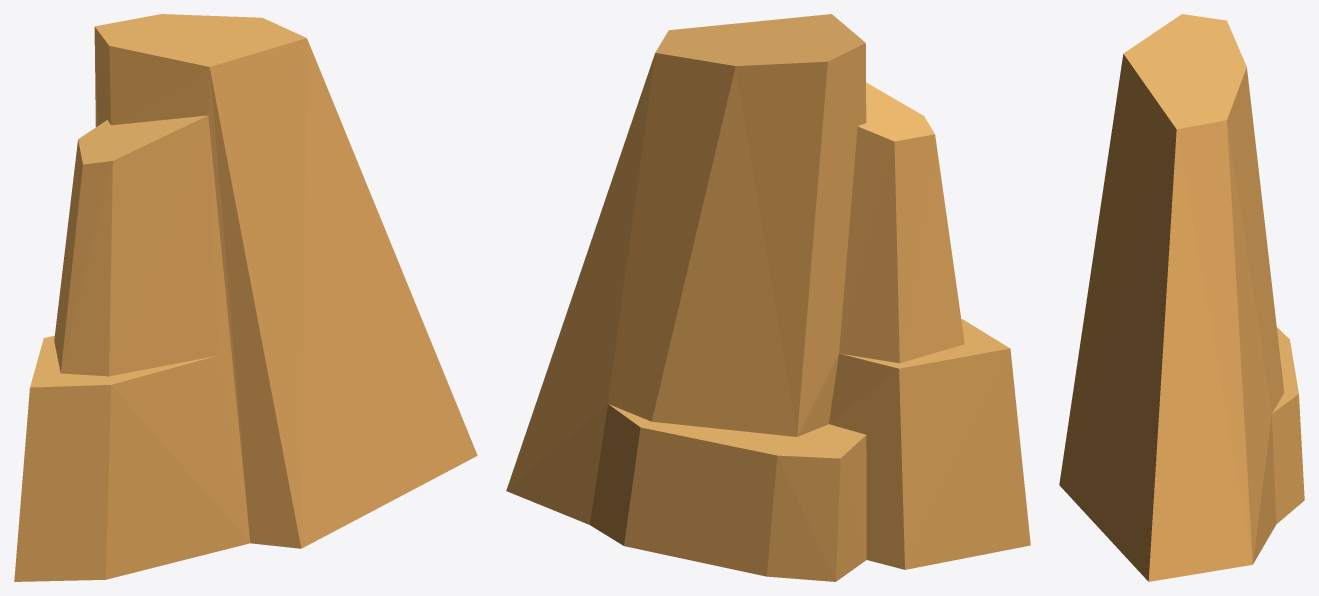
File: Model_Desert_2x1B.fbx
3 renders of one model, left to right at view 1: azimuth 30°, elevation 25°; view 2: azimuth 150°, elevation 25°; view 3: azimuth 270°, elevation 25°, orthographic. The views are drawn at different scales.
Visible parts, largest first — view 1: Model_Frost_2x1B; view 2: Model_Frost_2x1B; view 3: Model_Frost_2x1B.
Part boxes in pixels (box(x1,y1,x2,y2)): Model_Frost_2x1B: box(14, 14, 477, 581); Model_Frost_2x1B: box(506, 14, 1030, 581); Model_Frost_2x1B: box(1059, 14, 1304, 581).
Bounding box in the file's own units: 386 × 372 × 197.
1 material, 1 textured.
